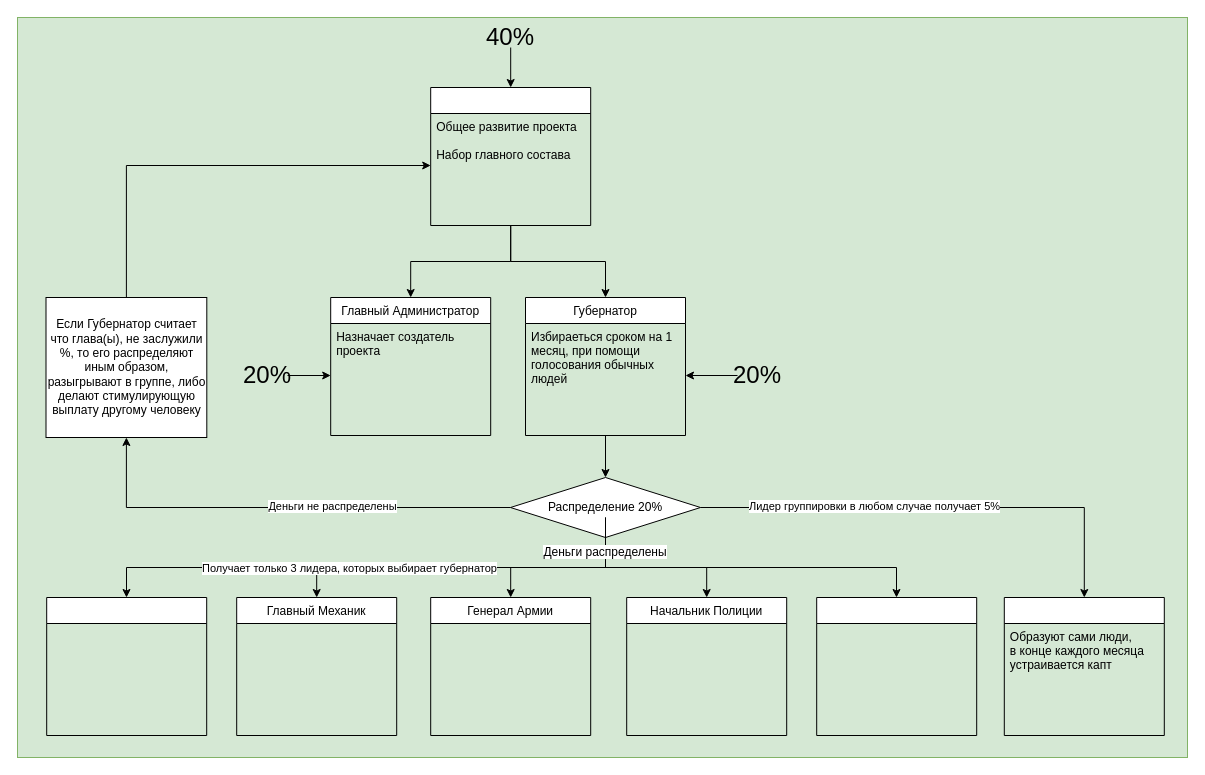
Image size: 1205x775. Some labels were removed from this diagram. The shapes that lost their labels are listed below. From the top down, each one's box as (x1, y1, x2, y2) in pixels, then its label:
(430, 86, 591, 226): Создатель
(46, 596, 207, 736): Главный Врач
(816, 596, 977, 736): Лидер СМИ
(1003, 596, 1164, 736): Группировка
